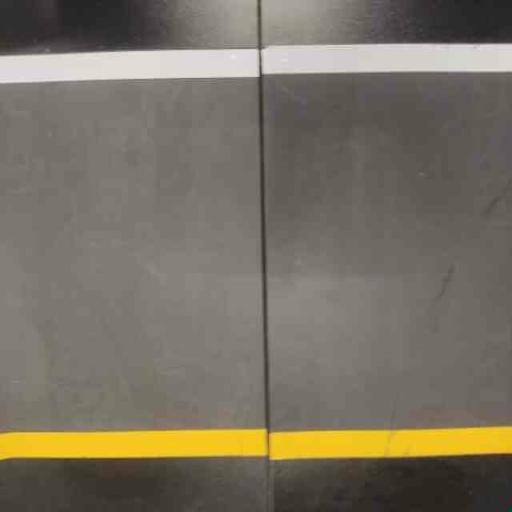straight: (4, 42, 512, 460)
